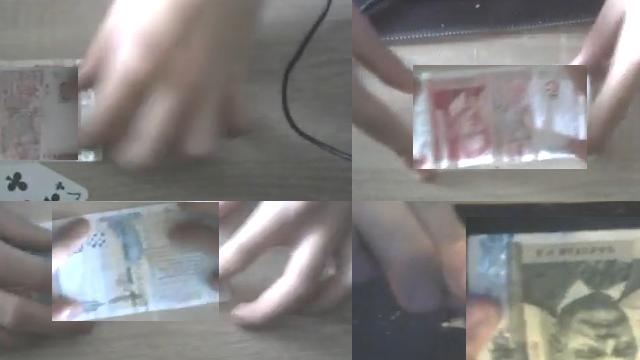10leva: (466, 225, 640, 360)
20leva: (52, 202, 219, 321)
5leva: (414, 65, 588, 171), (413, 65, 587, 169), (0, 67, 77, 159)
